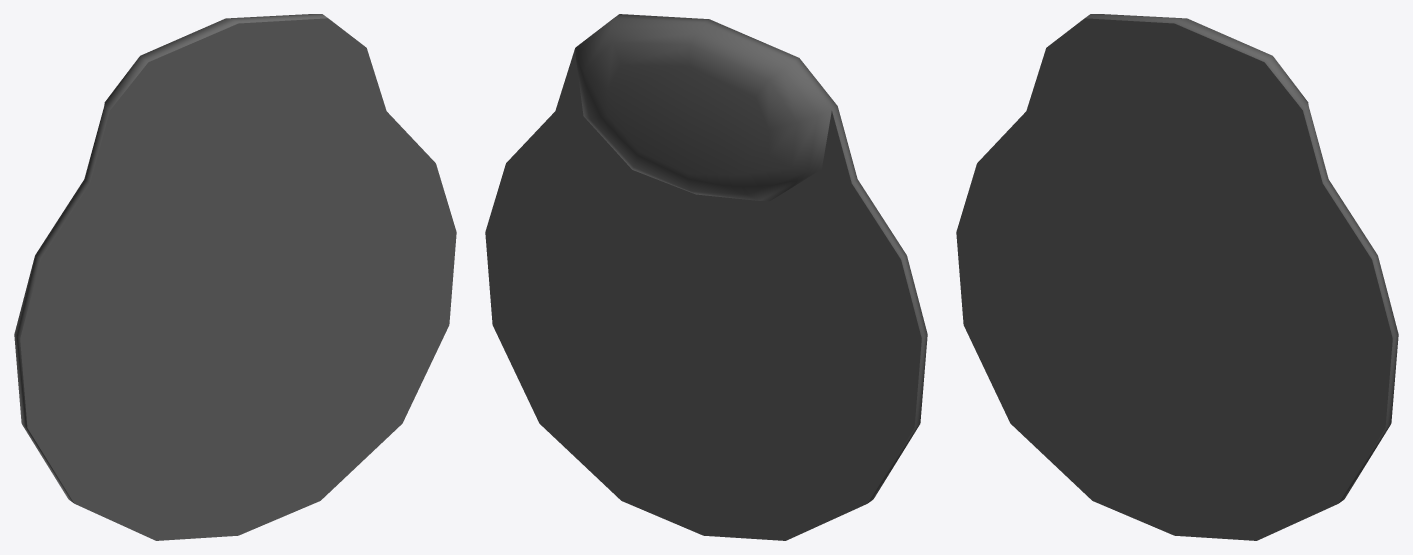
The model's file is PC_Mouse_Pad.glb.
The picture shows the model from 3 angles, left to right: view 1: azimuth 30°, elevation 25°; view 2: azimuth 150°, elevation 25°; view 3: azimuth 330°, elevation 25°; orthographic projection.
Parts seen in each view (by area): view 1: PC Mouse Pad; view 2: PC Mouse Pad; view 3: PC Mouse Pad.
Boxes of the visible parts, <box> form: PC Mouse Pad: <box>14,14,456,540</box>; PC Mouse Pad: <box>485,14,927,540</box>; PC Mouse Pad: <box>956,14,1398,540</box>.
Size of the model in its own units: 0.2602 by 0.2918 by 0.0223.
1 material, 1 textured.
